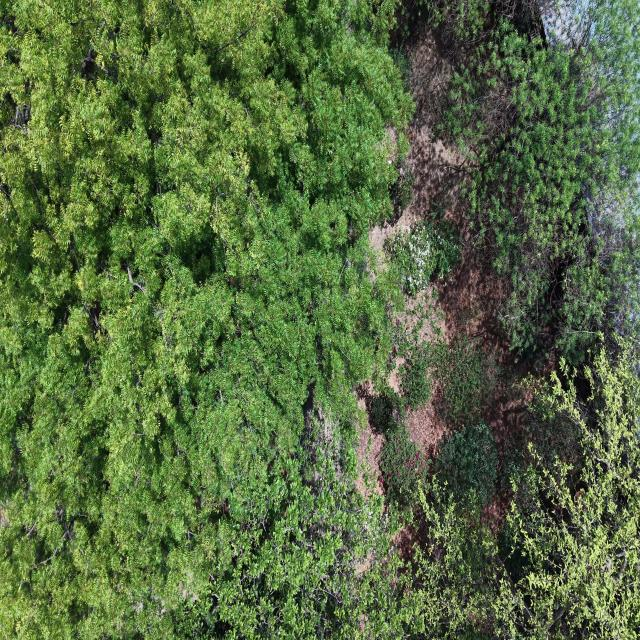DRY_AREA: (370, 30, 529, 453), (437, 203, 554, 459), (438, 210, 530, 451), (369, 30, 465, 259), (369, 30, 466, 253), (438, 243, 531, 458), (356, 382, 384, 494), (407, 402, 447, 457), (0, 507, 9, 526)
VEGETATION_TREE: (0, 0, 639, 639), (0, 0, 411, 638), (412, 2, 639, 638), (0, 422, 411, 638), (404, 0, 639, 363), (443, 0, 639, 362), (413, 347, 639, 639), (497, 345, 639, 639), (412, 473, 499, 639), (402, 336, 496, 423), (385, 220, 461, 296), (435, 421, 498, 506), (380, 423, 430, 506), (417, 0, 492, 48), (401, 344, 436, 407), (369, 385, 404, 433)
